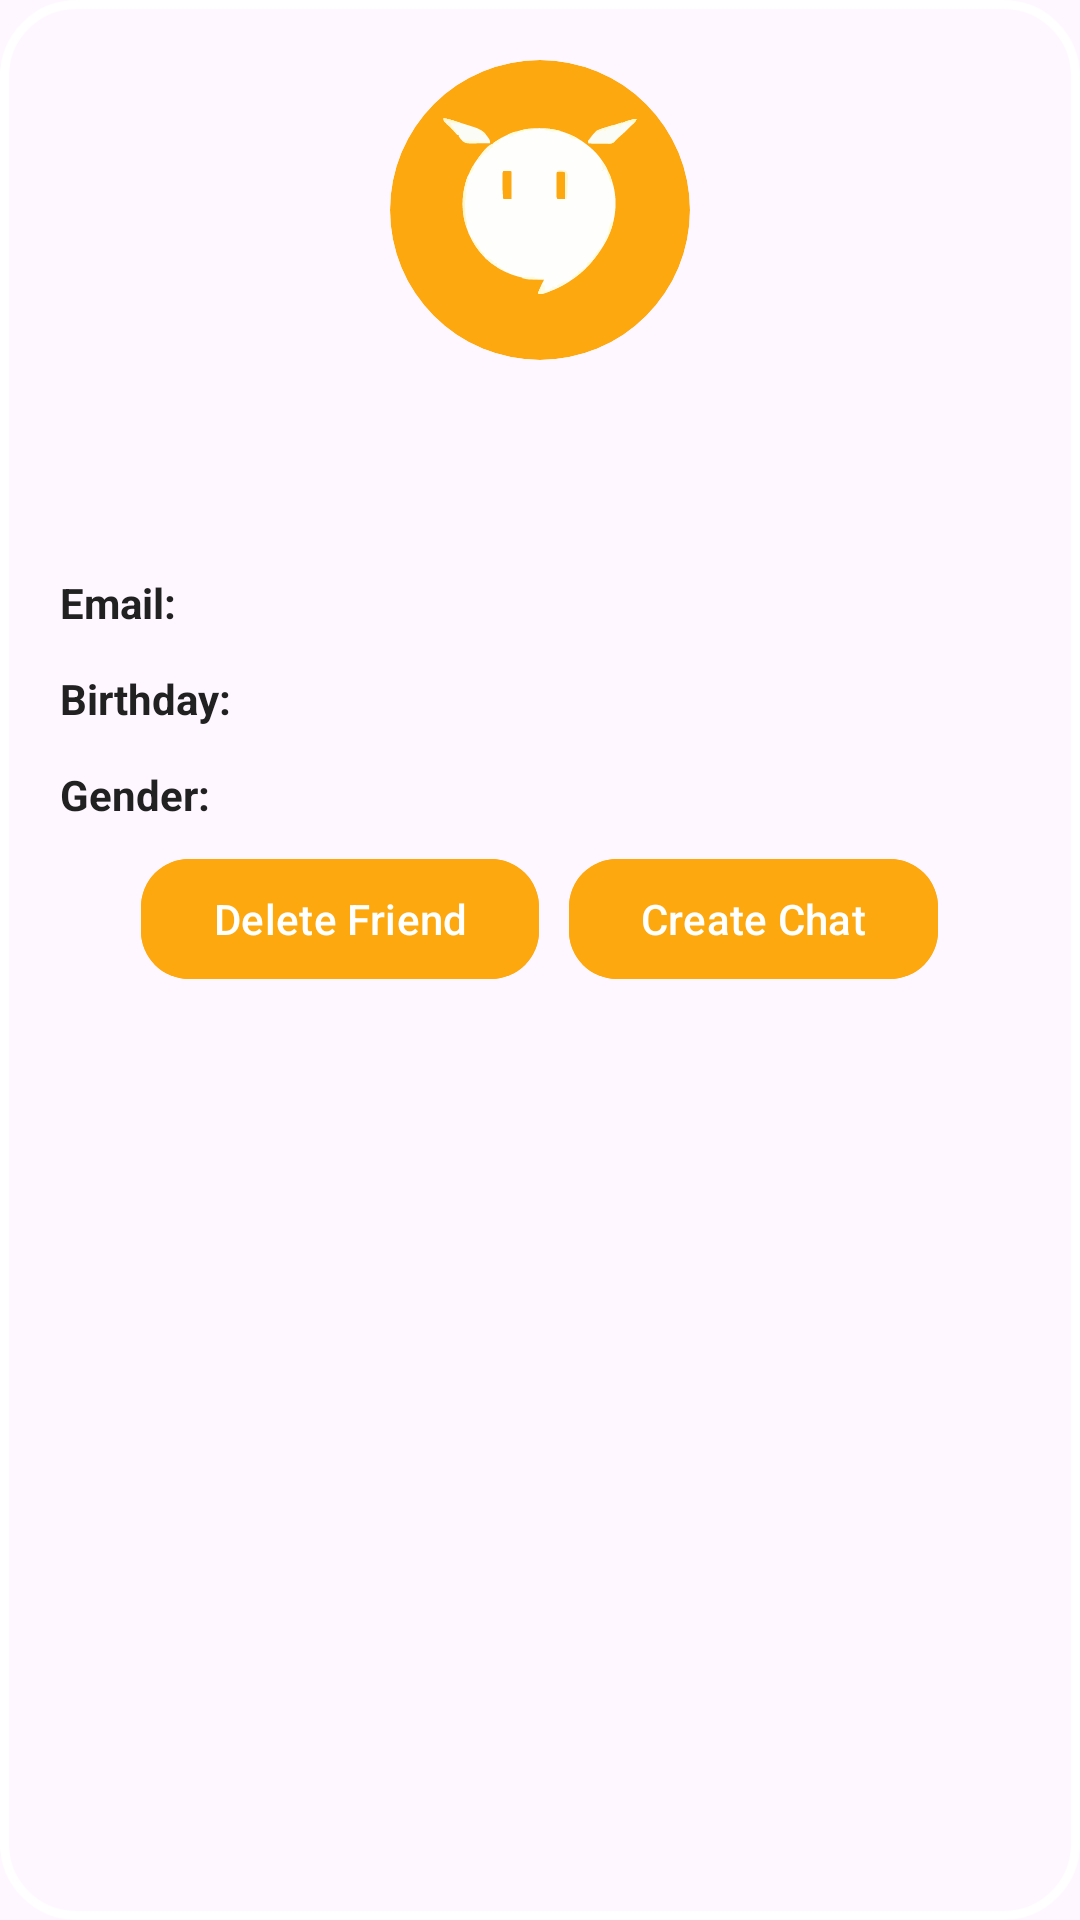

Icons on this 1080×1920 Android screen, each with the point to tap as (x,y):
user: (540,210)
